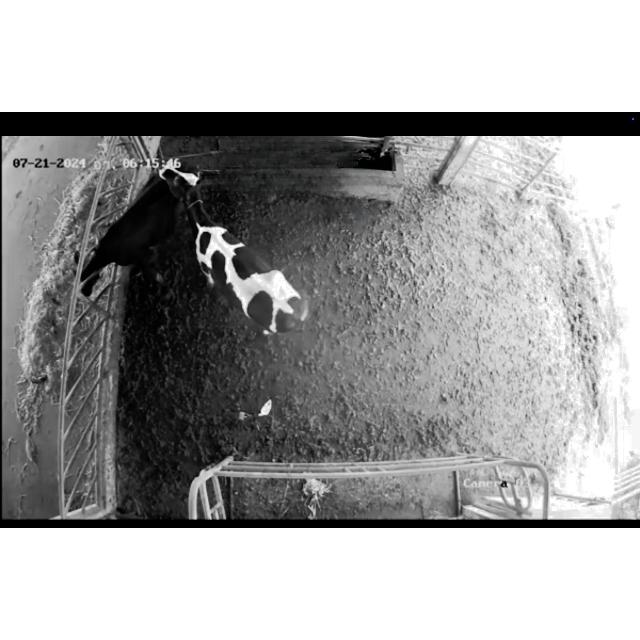propping: (152, 154, 224, 236)
